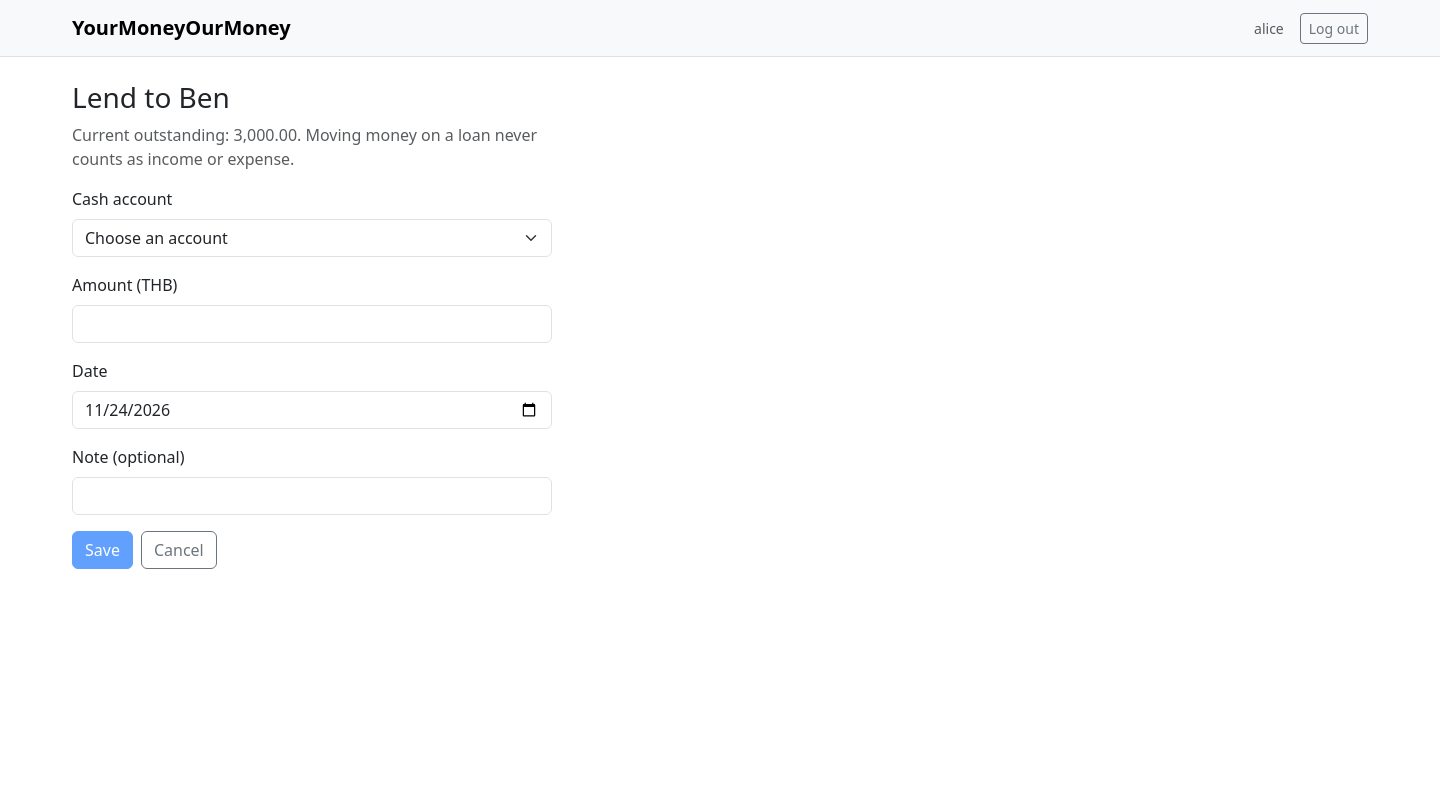
it: LoanActionPage (T-DEBT-UI-02) › highlights the Date field when the server returns a date validation error (#60)
Expected: the heading "Lend to Ben" is shown, [72,78,230,116]
Select "Bank · 38,500.00" in the dropdown labelled "Cash account". click: point(312, 238)
box: [72,219,552,257]
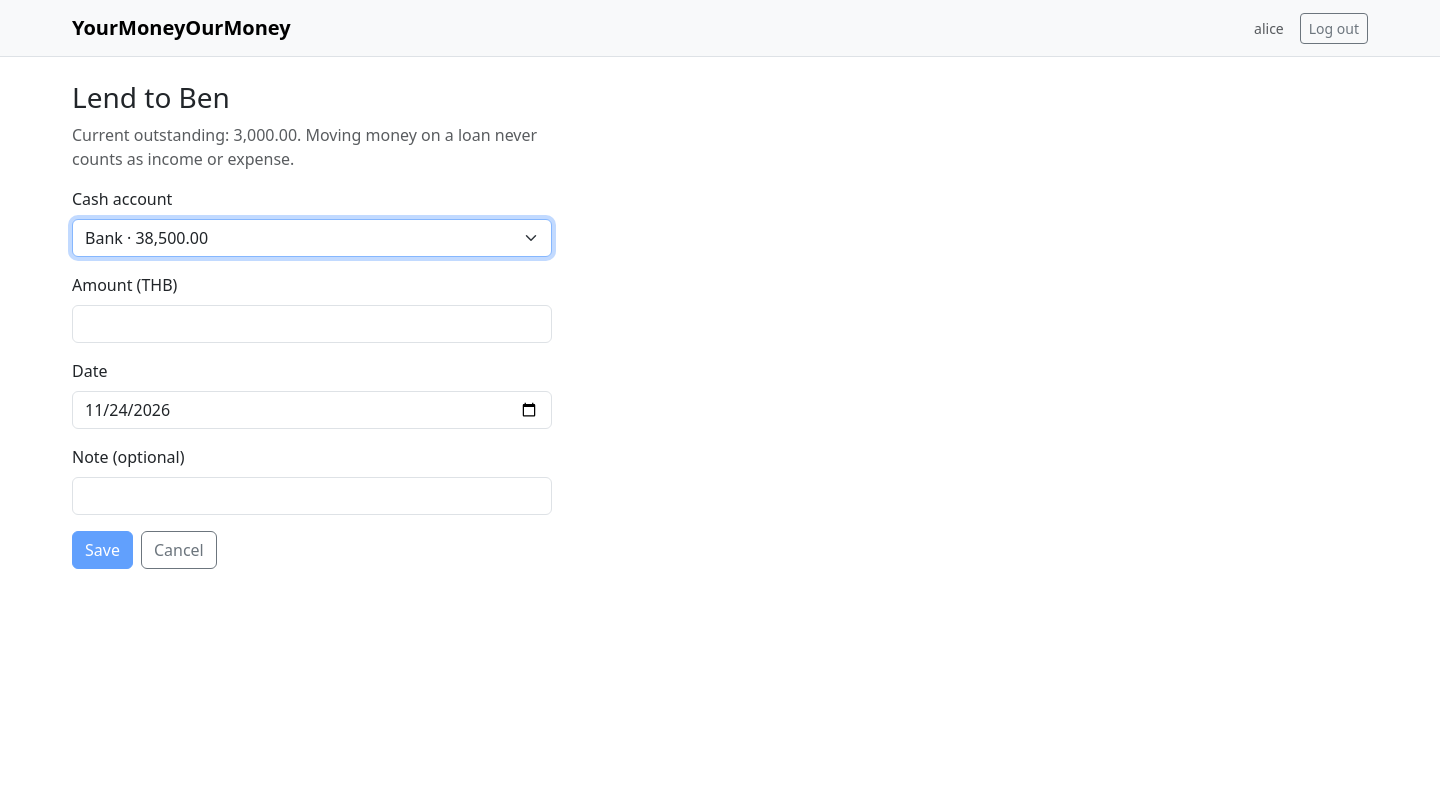
Type "500" into the field labelled "Amount (THB)". click: point(312, 324)
box: [72,305,552,343]
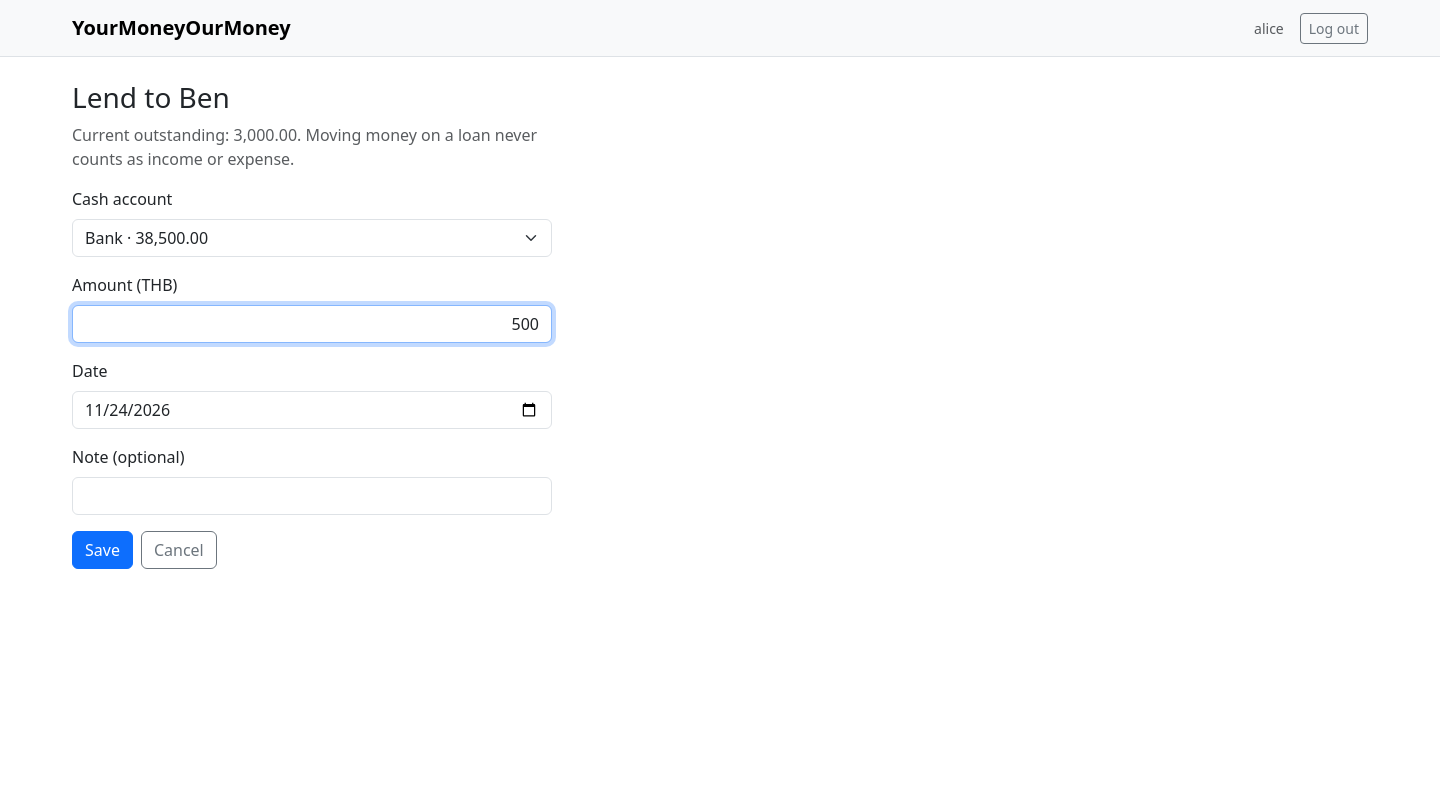
Click the button "Save". click: point(102, 550)
box: [72,531,133,569]
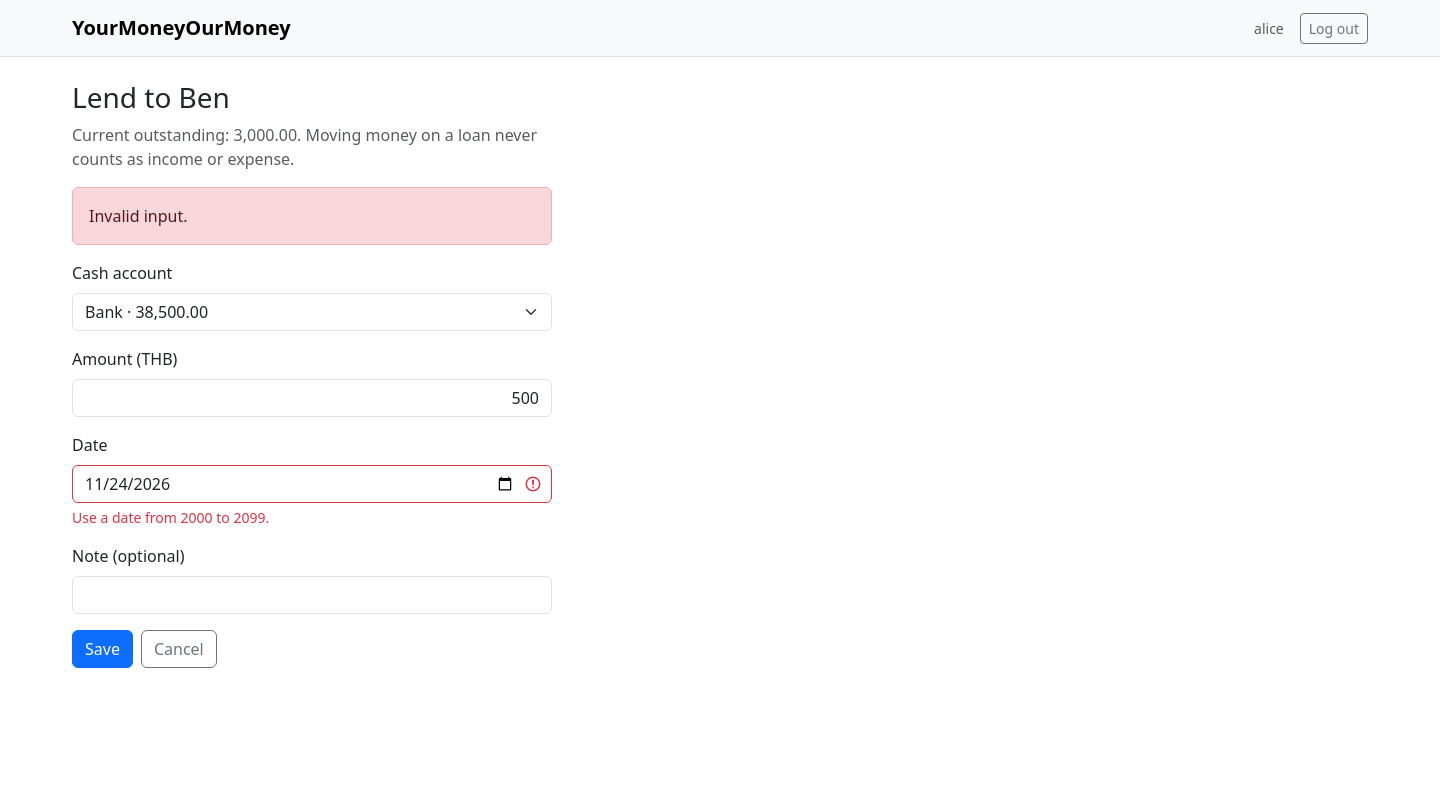
Now the message "Invalid input." is shown, box [72,187,552,245]
Now the text "Use a date from 2000 to 2099." is shown, box [72,508,269,527]
